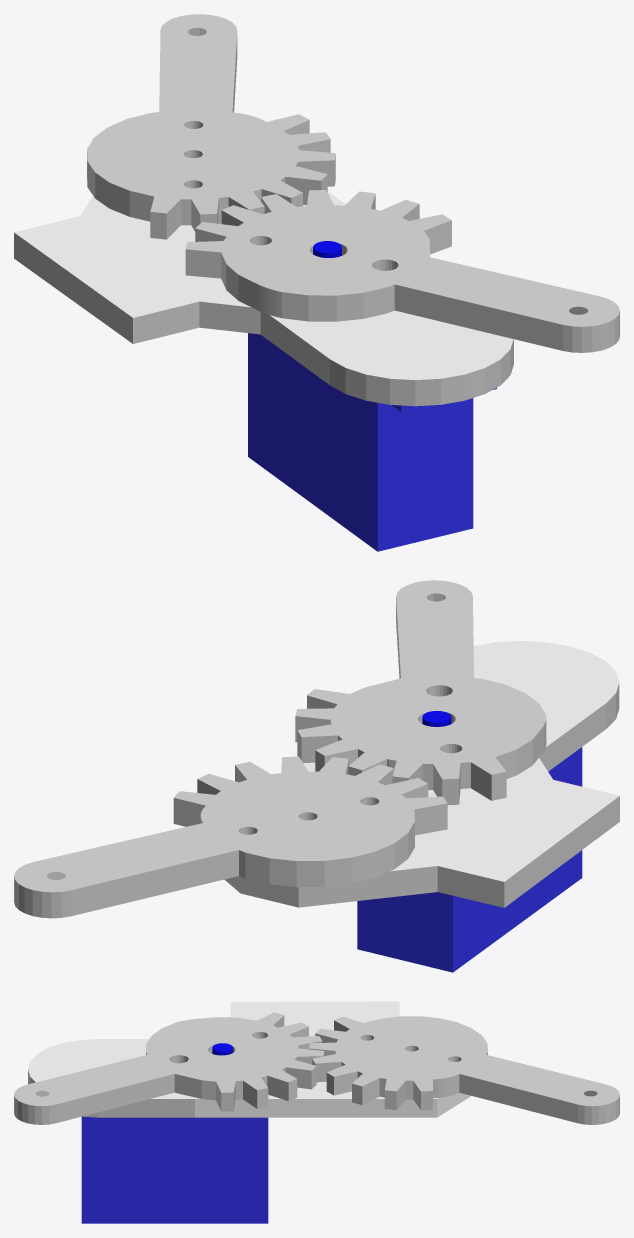
File: palm_grip.dae
The picture shows the model from 3 angles, top to bottom: view 1: azimuth 30°, elevation 25°; view 2: azimuth 150°, elevation 25°; view 3: azimuth 270°, elevation 25°; orthographic projection. The views are drawn at different scales.
Visible parts, largest first — view 1: instance_0 (×4), instance_1; view 2: instance_0 (×4), instance_1; view 3: instance_0 (×4), instance_1.
Boxes of the visible parts, x1=… form: instance_0 (×4): x1=14, y1=14, x2=619, y2=406; instance_1: x1=248, y1=333, x2=473, y2=551; instance_0 (×4): x1=14, y1=580, x2=619, y2=918; instance_1: x1=357, y1=747, x2=582, y2=972; instance_0 (×4): x1=14, y1=1001, x2=619, y2=1124; instance_1: x1=81, y1=1116, x2=268, y2=1223.
Size of the model in its own units: 1.67 by 3.45 by 1.
